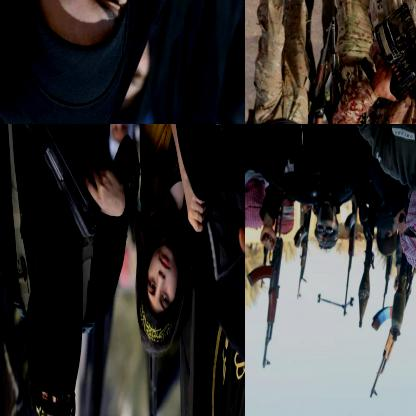rifle: (0, 124, 106, 243), (368, 260, 415, 400), (363, 0, 415, 114), (248, 238, 286, 368), (291, 205, 316, 299), (356, 229, 378, 326)
